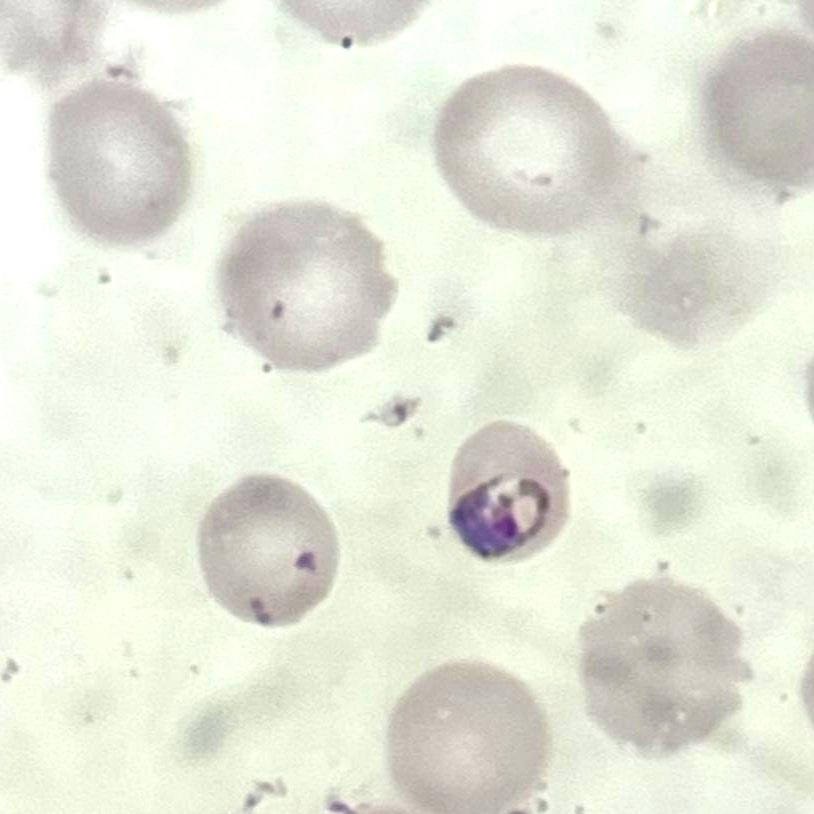Infected: (445, 415, 564, 566)
Uninfected: (433, 62, 620, 241), (217, 202, 397, 374), (582, 584, 756, 752), (390, 659, 551, 812), (45, 87, 188, 245), (705, 35, 814, 185)
